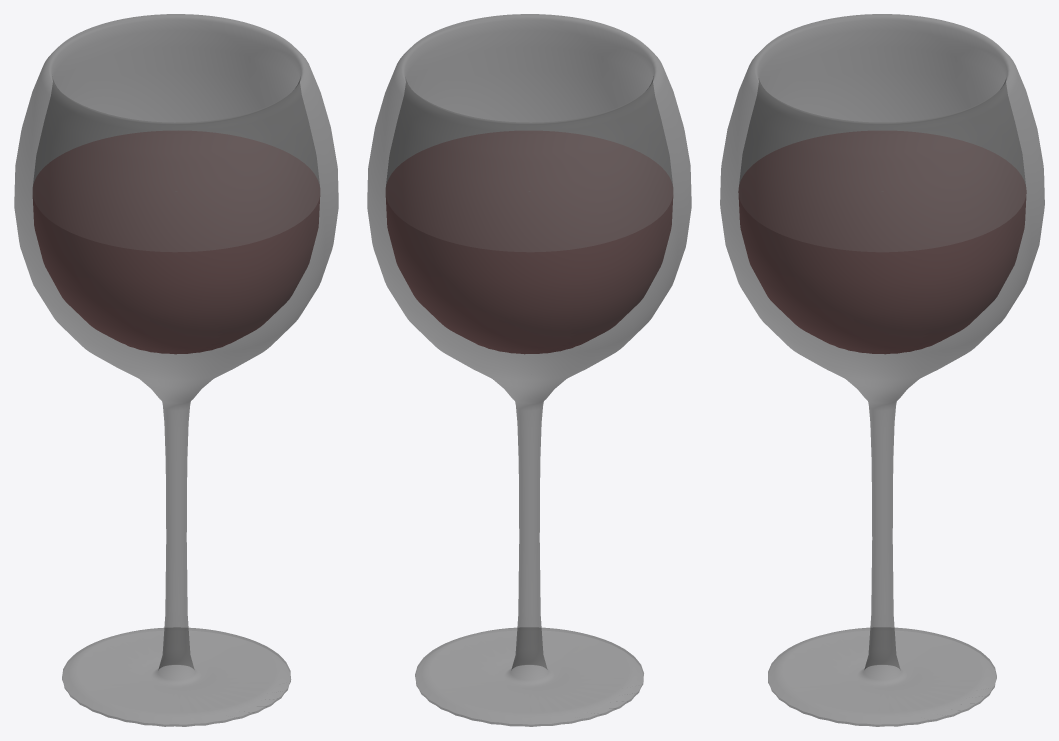
The model's file is WineGlass2.fbx.
The picture shows the model from 3 angles, left to right: view 1: azimuth 30°, elevation 25°; view 2: azimuth 150°, elevation 25°; view 3: azimuth 270°, elevation 25°; orthographic projection.
Visible parts, largest first — view 1: GlassWinefilled; view 2: GlassWinefilled; view 3: GlassWinefilled.
Part boxes in pixels (box(x1,y1,x2,y2)): GlassWinefilled: box(14, 14, 338, 726); GlassWinefilled: box(367, 14, 691, 726); GlassWinefilled: box(720, 14, 1044, 726).
Bounding box in the file's own units: 1.35 × 2.82 × 1.35.
